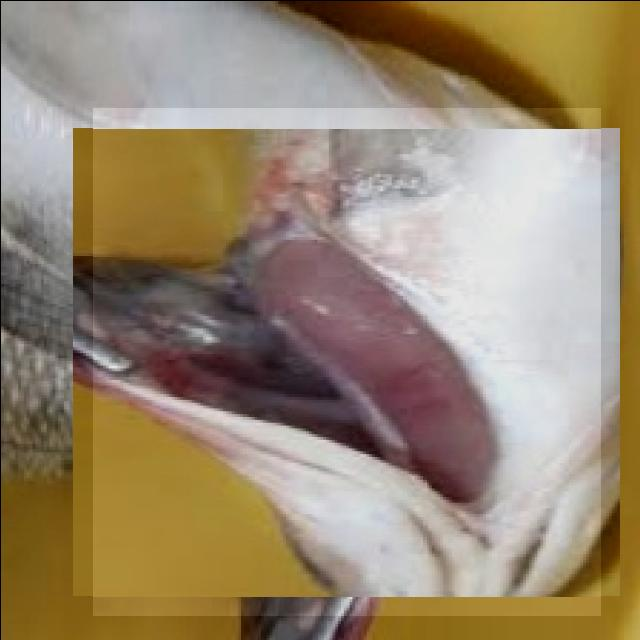Gill Disease: (92, 106, 600, 614)
